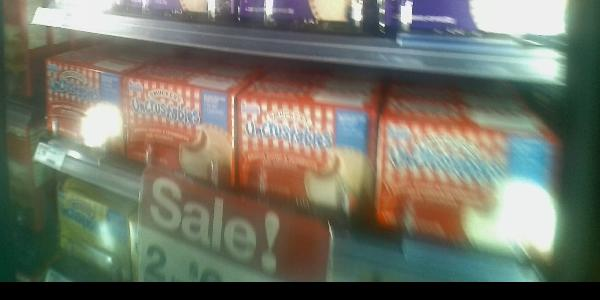icecream: (382, 119, 556, 246), (238, 95, 372, 223), (126, 71, 235, 193), (46, 60, 125, 149)
